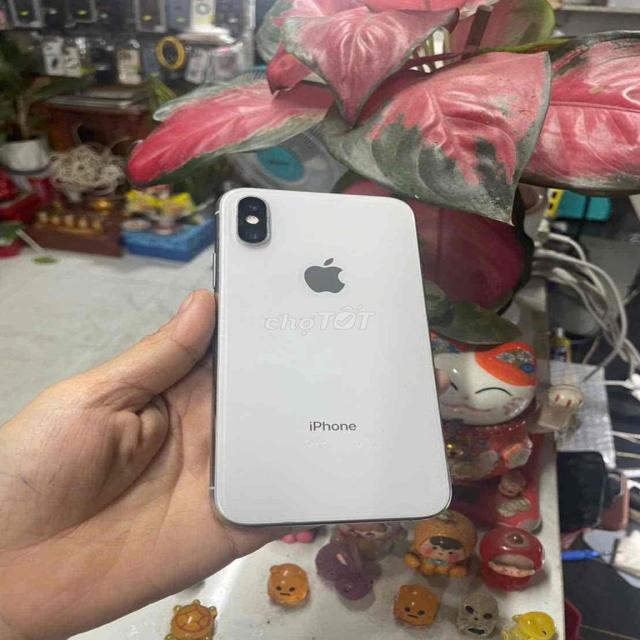gen_x_xs: (207, 189, 463, 529)
